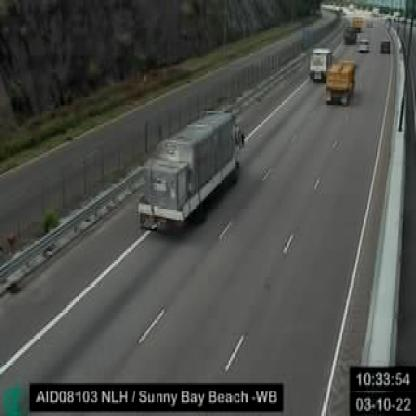Car: (357, 38, 368, 50), (380, 38, 390, 50)
Truck: (138, 108, 242, 230), (325, 59, 355, 102), (308, 47, 333, 80)
